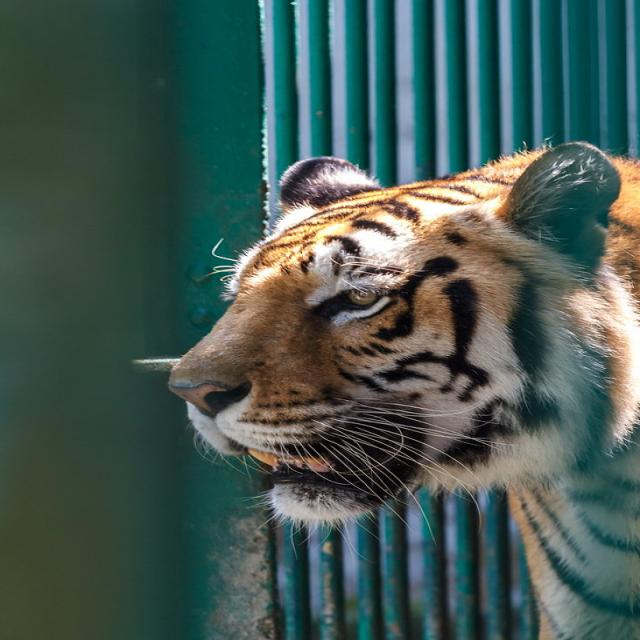Tiger: (167, 140, 638, 639)
